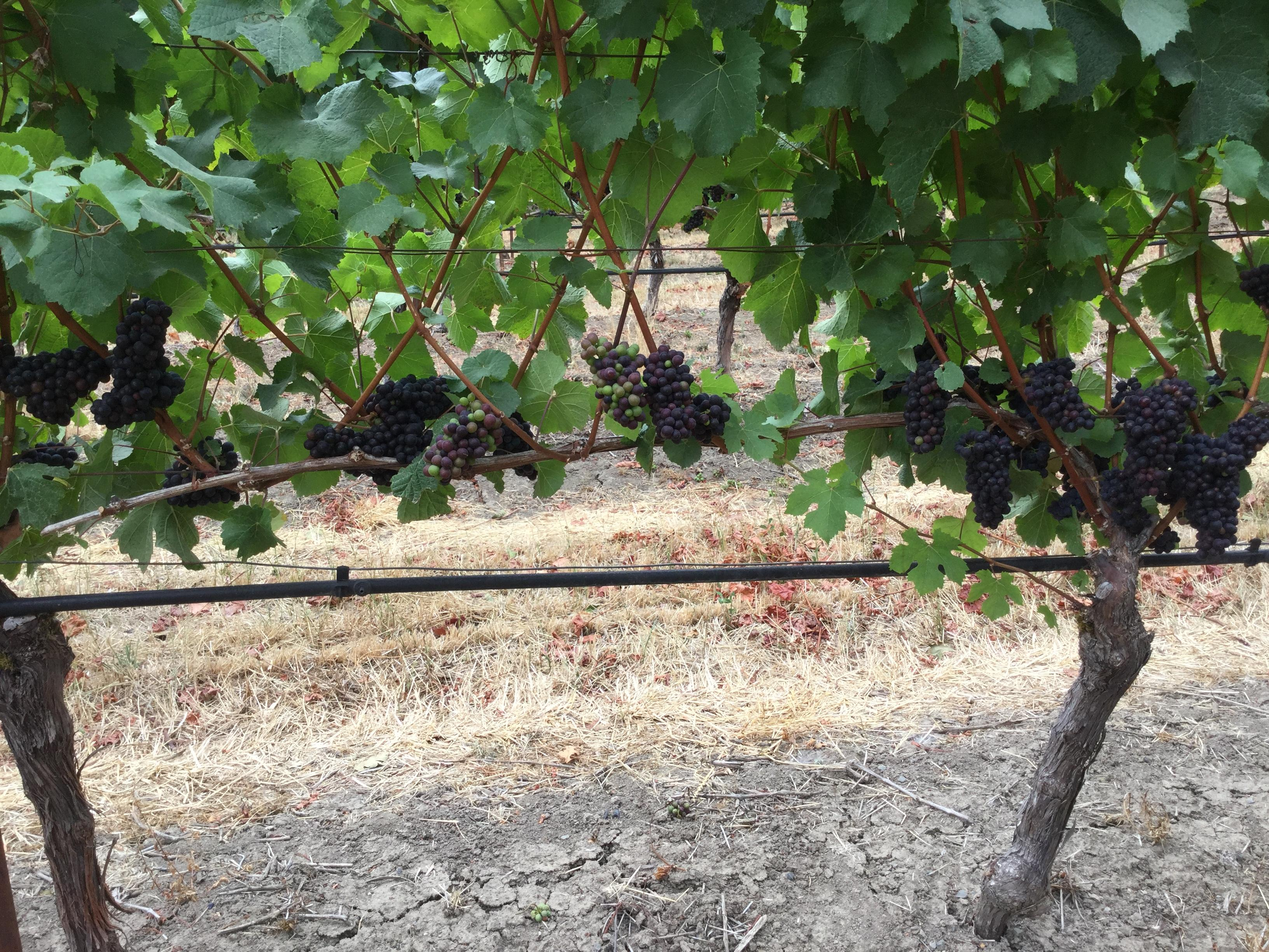leaf: (1156, 2, 1268, 148), (656, 29, 761, 156), (800, 12, 905, 131), (881, 74, 965, 214), (249, 79, 387, 163), (188, 0, 340, 73), (31, 227, 146, 313), (44, 0, 150, 91), (149, 143, 265, 226), (80, 159, 192, 232), (949, 0, 1050, 80), (743, 253, 816, 348), (786, 460, 864, 541), (1002, 29, 1077, 110), (467, 80, 549, 153), (560, 77, 639, 151), (709, 187, 769, 282), (950, 213, 1022, 284), (889, 529, 966, 593), (1047, 195, 1108, 268), (0, 463, 67, 529), (1121, 0, 1189, 56), (1138, 135, 1197, 192), (842, 0, 916, 42), (1217, 139, 1265, 198), (692, 0, 766, 31), (1266, 180, 1268, 184), (41, 7, 45, 9), (869, 0, 870, 3), (988, 27, 989, 30), (1037, 0, 1038, 2), (988, 63, 989, 64)
